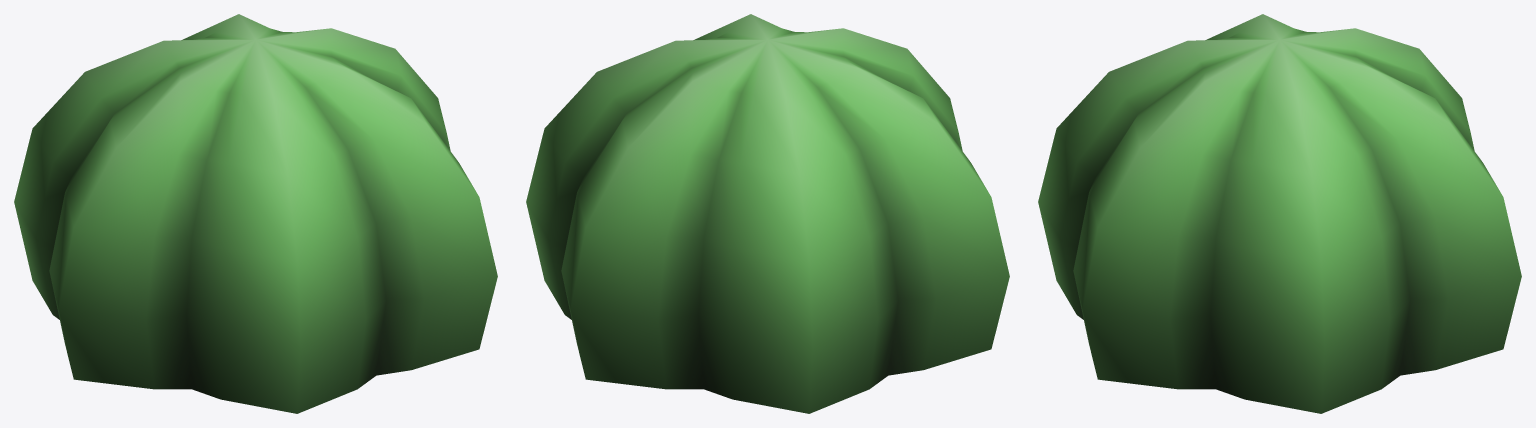
The model's file is Cactus_E_2.fbx.
3 views of the same model, side by side, from view 1: azimuth 30°, elevation 25°; view 2: azimuth 150°, elevation 25°; view 3: azimuth 270°, elevation 25° (orthographic).
Visible parts, largest first — view 1: Cactus_E_2; view 2: Cactus_E_2; view 3: Cactus_E_2.
Part boxes in pixels (x1,y1,x2,y2): Cactus_E_2: [14, 14, 497, 413]; Cactus_E_2: [526, 14, 1009, 413]; Cactus_E_2: [1038, 14, 1521, 413].
Bounding box in the file's own units: 30.12 × 18.04 × 28.74.
